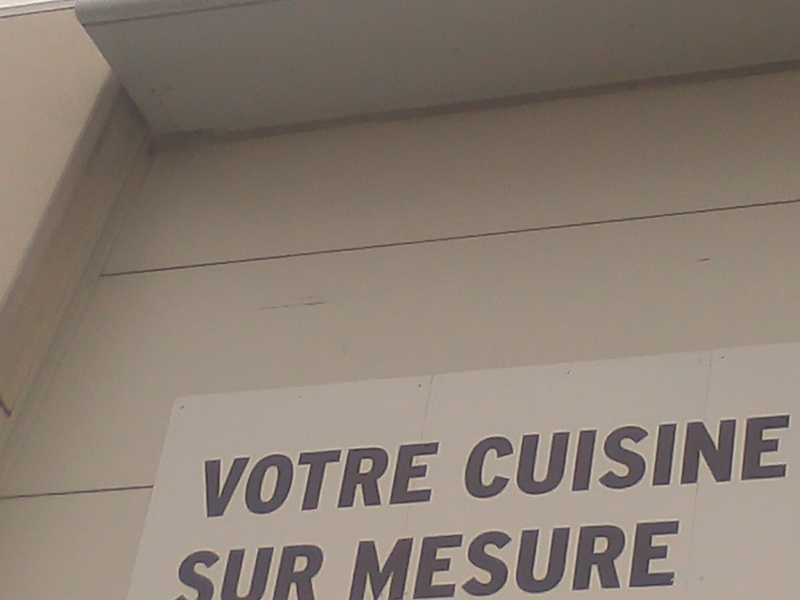text: (465, 414, 480, 501), (481, 414, 496, 501), (497, 414, 512, 501), (513, 414, 528, 501), (529, 414, 544, 501), (545, 414, 560, 501), (561, 414, 576, 501), (577, 414, 592, 501), (593, 414, 608, 501), (609, 414, 624, 501), (625, 414, 640, 501), (641, 414, 656, 501), (657, 414, 672, 501), (673, 414, 688, 501), (689, 414, 704, 501), (705, 414, 720, 501), (721, 414, 736, 501), (737, 414, 752, 501), (753, 414, 768, 501), (769, 414, 784, 501), (369, 518, 384, 600), (385, 518, 400, 600), (401, 518, 416, 600), (417, 518, 432, 600), (433, 518, 448, 600), (449, 518, 464, 600), (465, 518, 480, 600), (481, 518, 496, 600), (497, 518, 512, 600), (513, 518, 528, 600), (529, 518, 544, 600), (545, 518, 560, 600), (561, 518, 576, 600), (577, 518, 592, 600), (593, 518, 608, 600), (609, 518, 624, 600), (625, 518, 640, 600), (641, 518, 656, 600), (657, 518, 672, 600), (209, 440, 224, 518), (225, 440, 240, 518), (241, 440, 256, 518), (257, 440, 272, 518), (273, 440, 288, 518), (289, 440, 304, 518), (305, 440, 320, 518), (321, 440, 336, 518), (337, 440, 352, 518), (353, 440, 368, 518), (369, 440, 384, 518), (385, 440, 400, 518), (401, 440, 416, 518), (417, 440, 432, 518), (193, 543, 208, 600), (209, 543, 224, 600), (225, 543, 240, 600), (241, 543, 256, 600), (257, 543, 272, 600), (273, 543, 288, 600), (289, 543, 304, 600), (305, 543, 320, 600), (358, 518, 368, 600), (178, 543, 192, 600), (321, 543, 334, 600), (785, 414, 793, 501), (673, 518, 681, 600), (433, 440, 440, 518), (204, 440, 208, 518)
